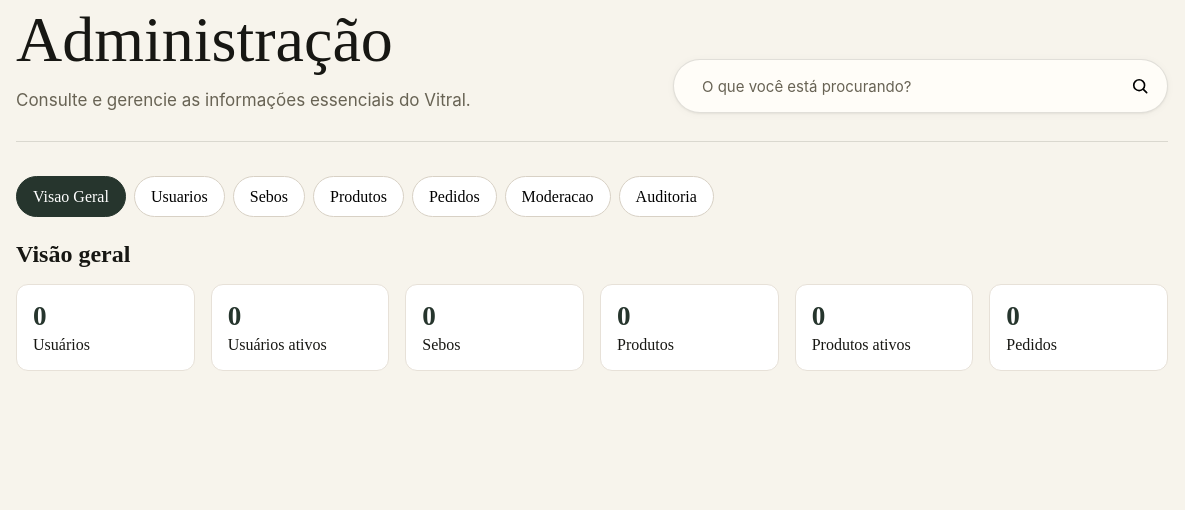
administração › mantém a nova tentativa disponível quando a localização não é encontrada
Click the button "Sebos": (269, 197) [233,176,305,217]
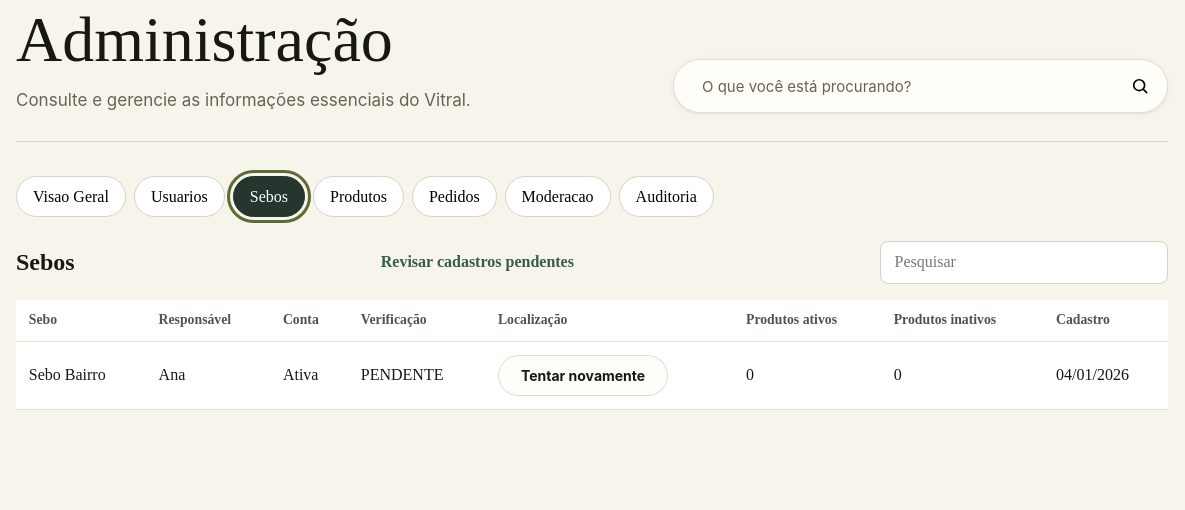
Click the button with aria-label "Tentar localizar Sebo Bairro novamente": (583, 375) [498,355,668,396]
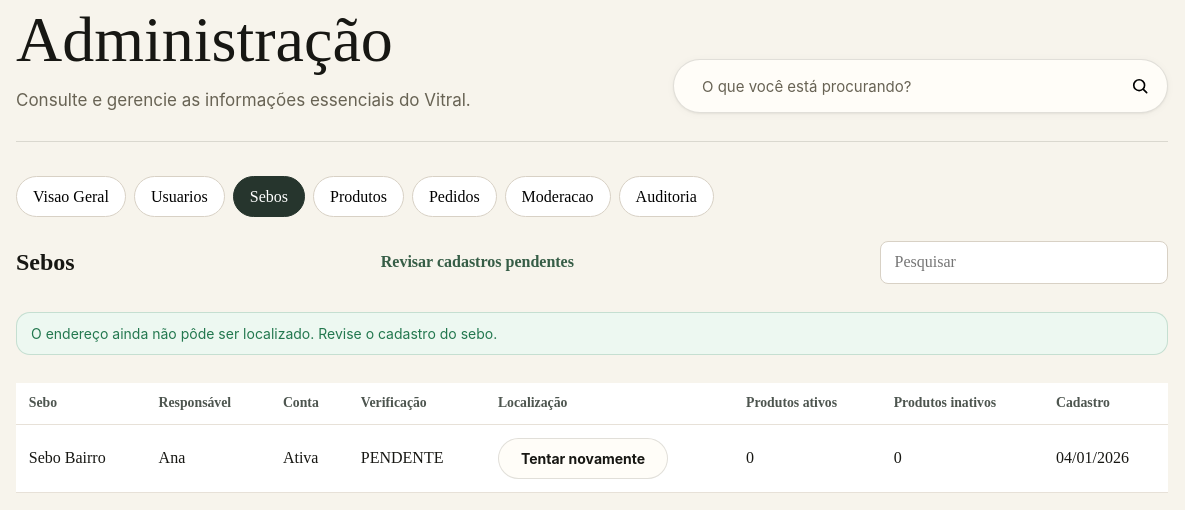
Result: the button with aria-label "Tentar localizar Sebo Bairro novamente" is enabled at [498,438,668,479]
Result: the message shows "O endereço ainda não pôde ser localizado." at [31,324,497,342]
